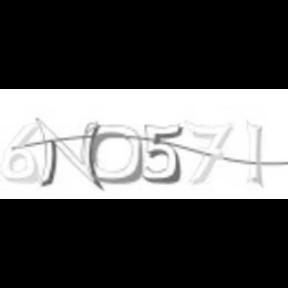5: (142, 122, 182, 186)
6: (1, 122, 40, 186)
7: (183, 116, 235, 186)
I: (245, 119, 266, 187)
N: (34, 117, 104, 191)
O: (87, 122, 143, 184)
